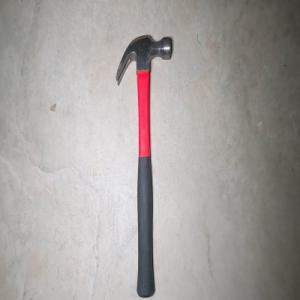Hammer: (115, 33, 171, 298)
